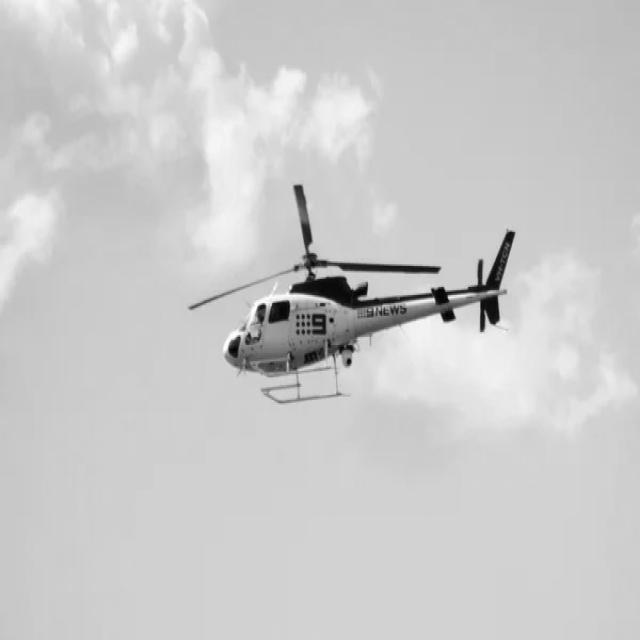Helicopter: (189, 183, 516, 404)
